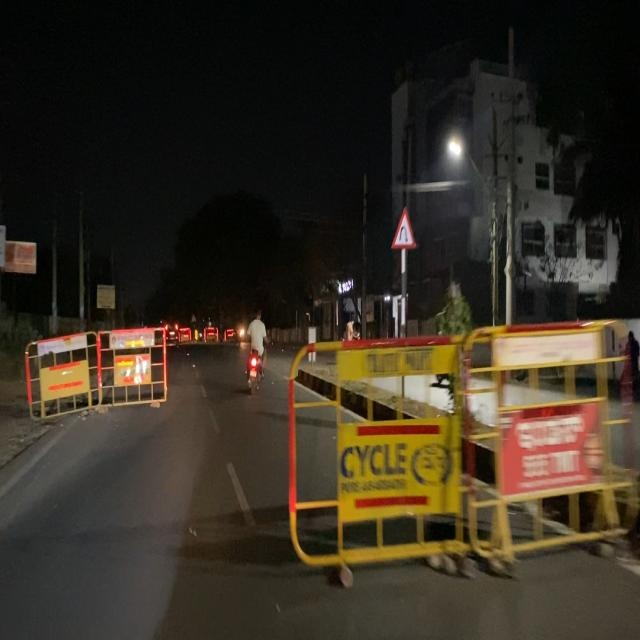bien_nguy_hiem: (391, 206, 417, 250)
